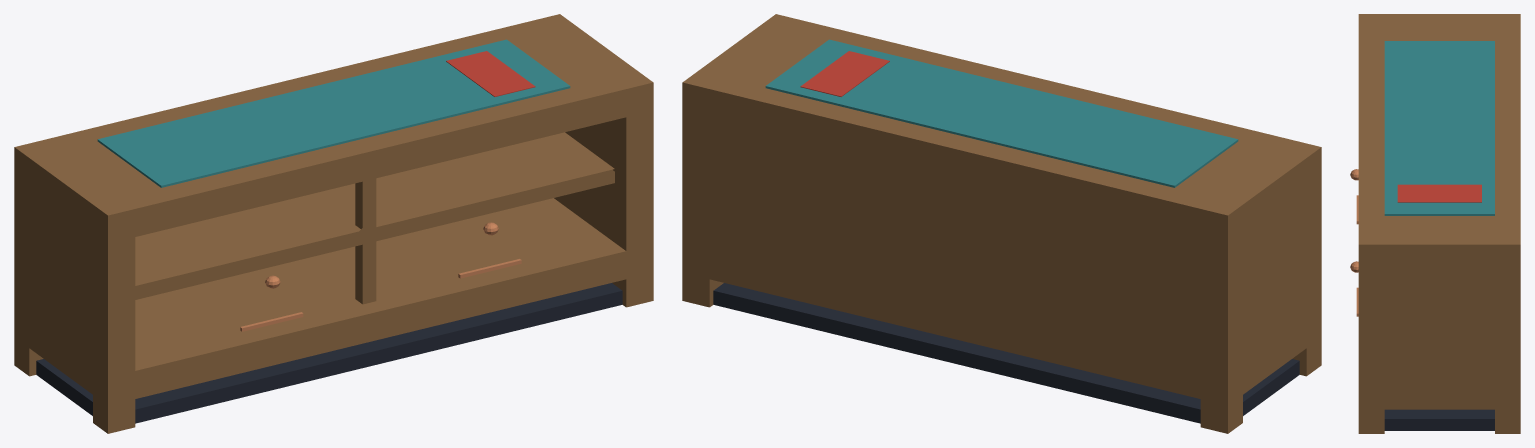
The model's file is cabinetTelevision.glb.
3 renders of one model, left to right at view 1: azimuth 30°, elevation 25°; view 2: azimuth 150°, elevation 25°; view 3: azimuth 270°, elevation 25°, orthographic. The views are drawn at different scales.
Parts seen in each view (by area): view 1: cabinetTelevision(Clone); view 2: cabinetTelevision(Clone); view 3: cabinetTelevision(Clone).
Boxes of the visible parts, x1=… form: cabinetTelevision(Clone): x1=14, y1=14, x2=653, y2=433; cabinetTelevision(Clone): x1=682, y1=14, x2=1321, y2=433; cabinetTelevision(Clone): x1=1350, y1=14, x2=1520, y2=433.
Size of the model in its own units: 0.8 by 0.31 by 0.25.
